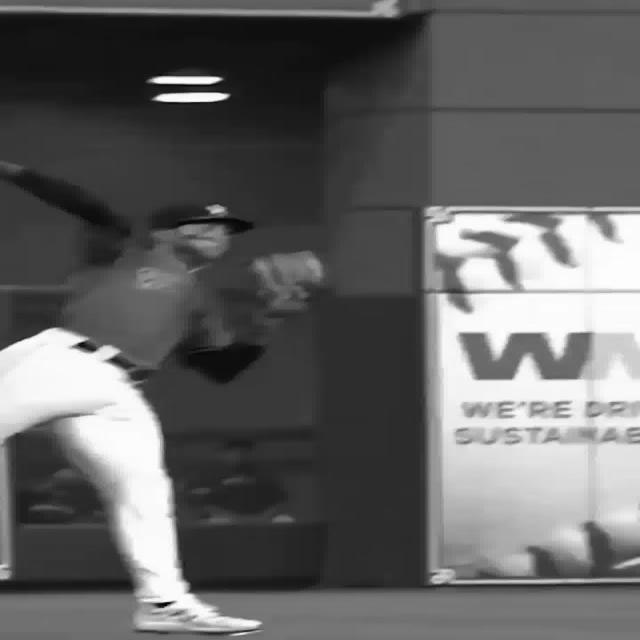baseball_glove: (246, 249, 326, 318)
shoe: (132, 597, 262, 633)
